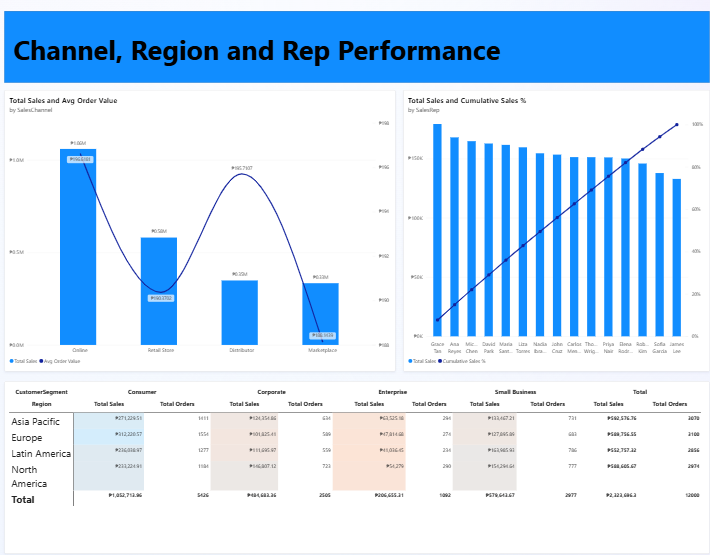

The dashboard page shown, as its layout file describes it:
{"tool":"powerbi","page":{"name":" Channel & Rep Performance","canvas":[1920,1500],"ordinal":2},"visuals":[{"type":"lineClusteredColumnComboChart","fields":{"Category":["Sales_Data.SalesChannel"],"Y":["Sales_Data.Total Sales"],"Y2":["Sales_Data.Avg Order Value"]},"box":[20,240,1042.5,750],"z":0},{"type":"lineClusteredColumnComboChart","fields":{"Category":["Sales_Data.SalesRep"],"Y":["Sales_Data.Total Sales"],"Y2":["Sales_Data.Cumulative Sales %"]},"box":[1082.5,240,817.5,750],"z":1000},{"type":"pivotTable","fields":{"Columns":["Sales_Data.CustomerSegment"],"Rows":["Sales_Data.Region"],"Values":["Sales_Data.Total Sales","Sales_Data.Total Orders"]},"box":[20,1017.5,1880,460],"z":2000},{"type":"shape","box":[20,30,1880,190],"z":3000},{"type":"textbox","box":[43.3,30,1856.7,190],"z":4000}]}

Visuals, with their boxes in screenshot pixels (x1, y1, x2, y2), scaled from the page's 1920x1500 canvas onto the 710x555 screenshot:
lineClusteredColumnComboChart - Sales_Data.SalesChannel x Sales_Data.Total Sales: select_region(7, 89, 393, 366)
lineClusteredColumnComboChart - Sales_Data.SalesRep x Sales_Data.Total Sales: select_region(400, 89, 703, 366)
pivotTable - Sales_Data.CustomerSegment x Sales_Data.Region: select_region(7, 376, 703, 547)
shape: select_region(7, 11, 703, 81)
textbox: select_region(16, 11, 703, 81)
